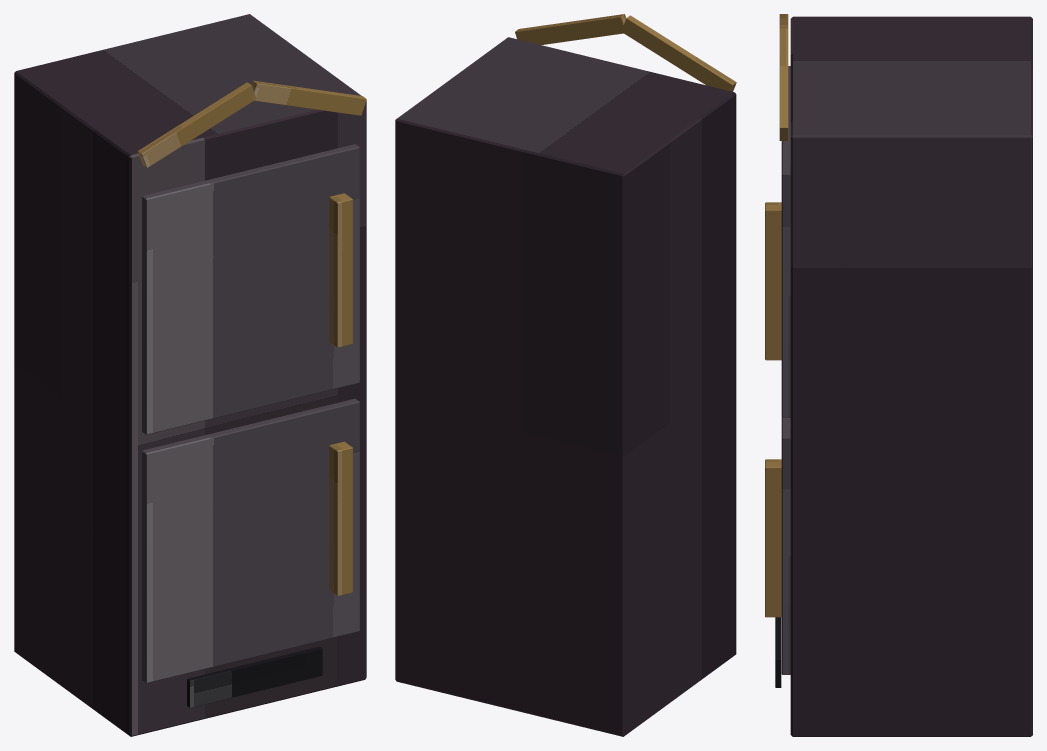
Rendered from gothic_kitchen_fridge.glb.
3 renders of one model, left to right at view 1: azimuth 30°, elevation 25°; view 2: azimuth 150°, elevation 25°; view 3: azimuth 270°, elevation 25°, orthographic. The views are drawn at different scales.
Visible parts, largest first — view 1: FridgeBody, UpperDoor, LowerDoor, FridgeVent, FridgeHandle_0.58, FridgeHandle_1.4, FridgeCrownLeft, FridgeCrownRight; view 2: FridgeBody, FridgeCrownLeft, FridgeCrownRight; view 3: FridgeBody, UpperDoor, FridgeHandle_0.58, FridgeHandle_1.4, LowerDoor, FridgeCrownRight, FridgeVent.
Part boxes in pixels (bbox=[...]): FridgeBody: bbox=[14, 14, 366, 736]; UpperDoor: bbox=[142, 144, 359, 434]; LowerDoor: bbox=[142, 398, 359, 683]; FridgeVent: bbox=[187, 646, 322, 707]; FridgeHandle_0.58: bbox=[329, 441, 352, 596]; FridgeHandle_1.4: bbox=[329, 193, 352, 347]; FridgeCrownLeft: bbox=[137, 82, 256, 167]; FridgeCrownRight: bbox=[251, 80, 366, 115]; FridgeBody: bbox=[395, 37, 736, 736]; FridgeCrownLeft: bbox=[621, 15, 736, 91]; FridgeCrownRight: bbox=[515, 14, 626, 44]; FridgeBody: bbox=[790, 16, 1032, 736]; UpperDoor: bbox=[781, 66, 790, 417]; FridgeHandle_0.58: bbox=[765, 459, 781, 617]; FridgeHandle_1.4: bbox=[765, 202, 781, 360]; LowerDoor: bbox=[781, 417, 790, 674]; FridgeCrownRight: bbox=[779, 28, 788, 140]; FridgeVent: bbox=[775, 617, 781, 687].
Bounding box in the file's own units: 0.82 × 2.08 × 0.7745.
1 material, 1 textured.
